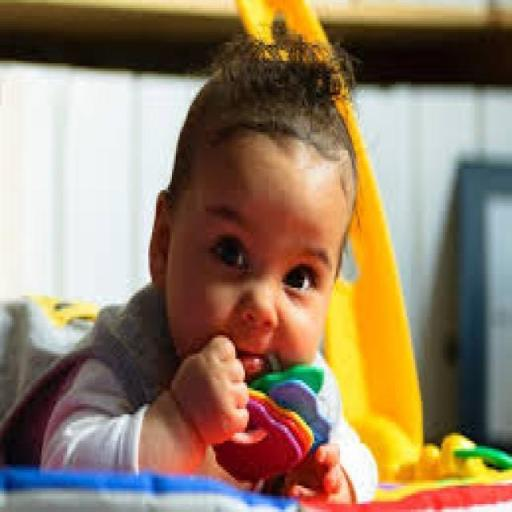baby: (2, 60, 380, 504)
